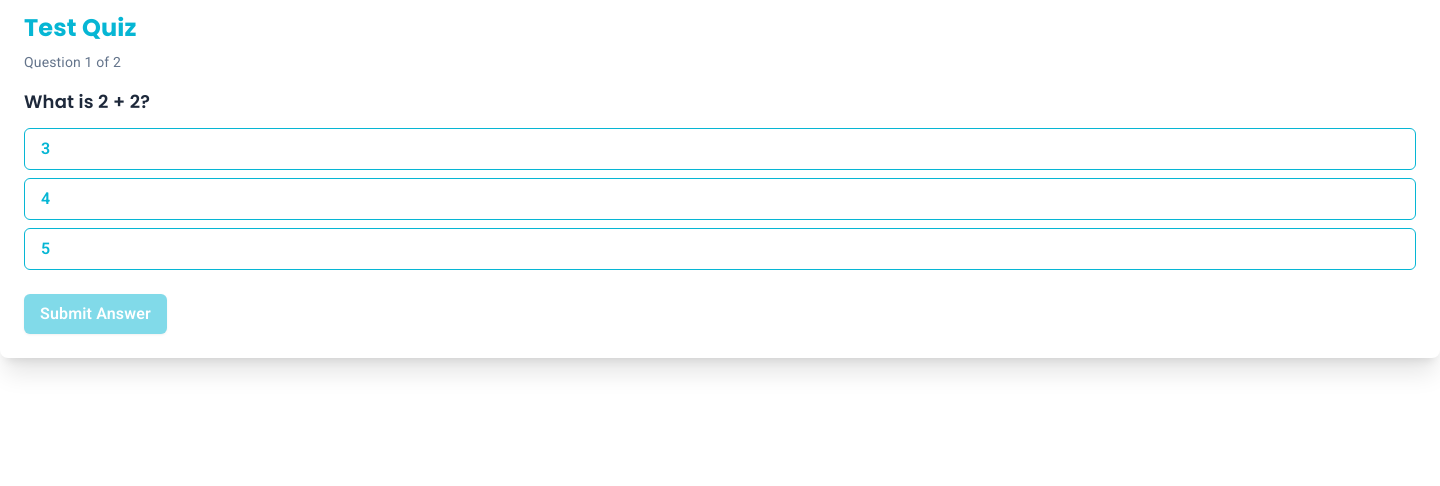
QuizView › navigates to the next question
The width and height of the screenshot is (1440, 486).
Click the button "3". click: (46, 148)
box: x1=24 y1=128 x2=1416 y2=170
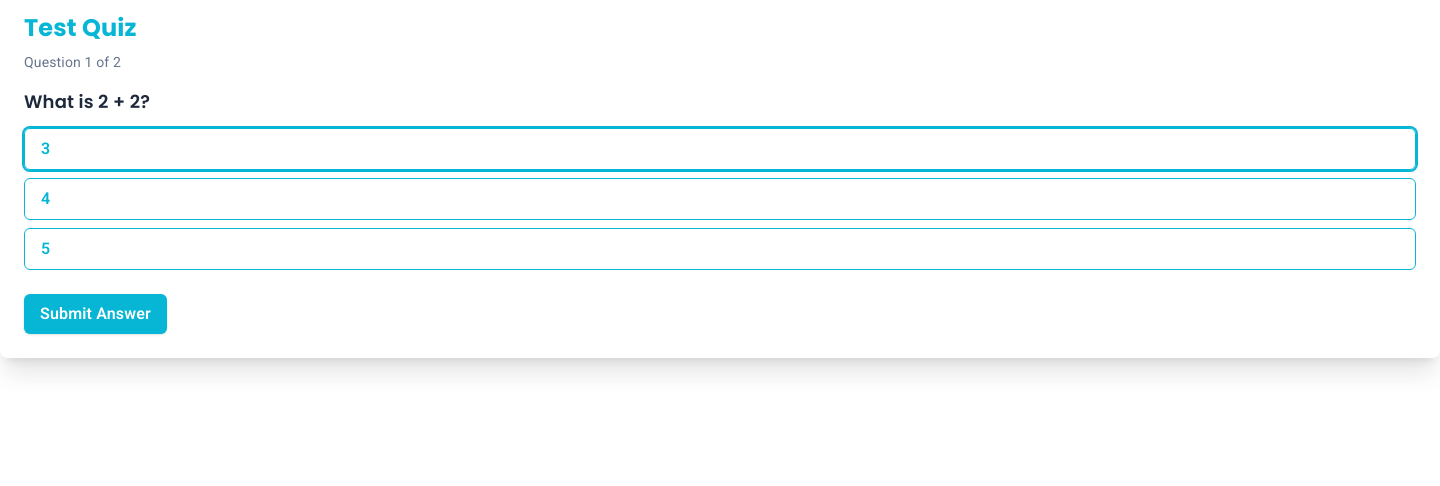
Click the button "Submit Answer". click: (95, 314)
box: x1=24 y1=294 x2=167 y2=334
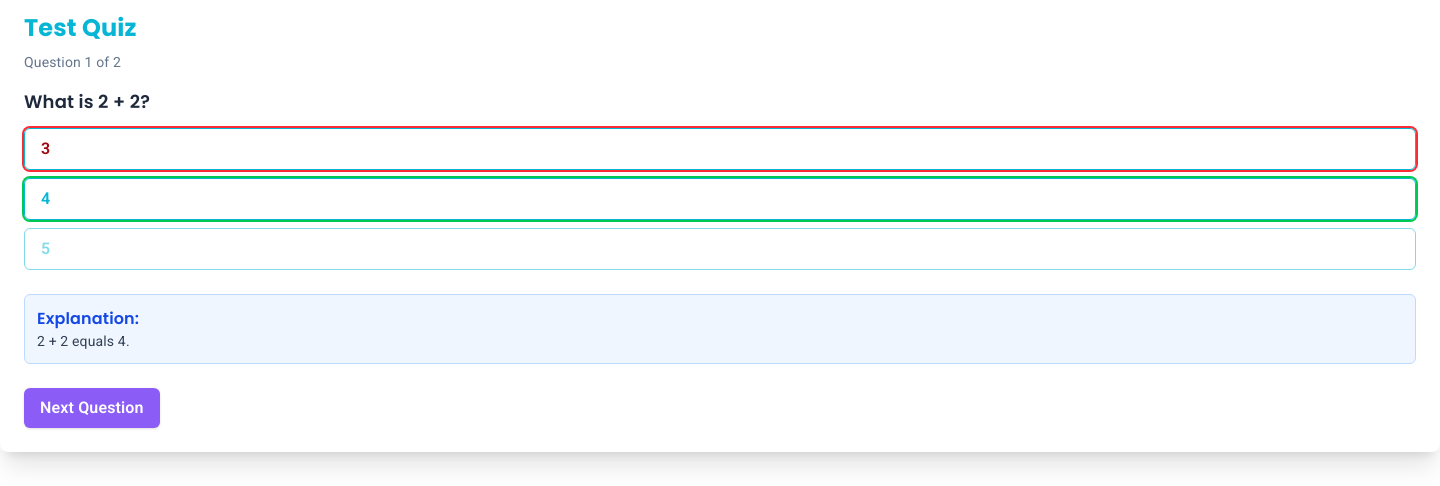
Click the button "Next Question". click: (92, 408)
box: x1=24 y1=388 x2=160 y2=428
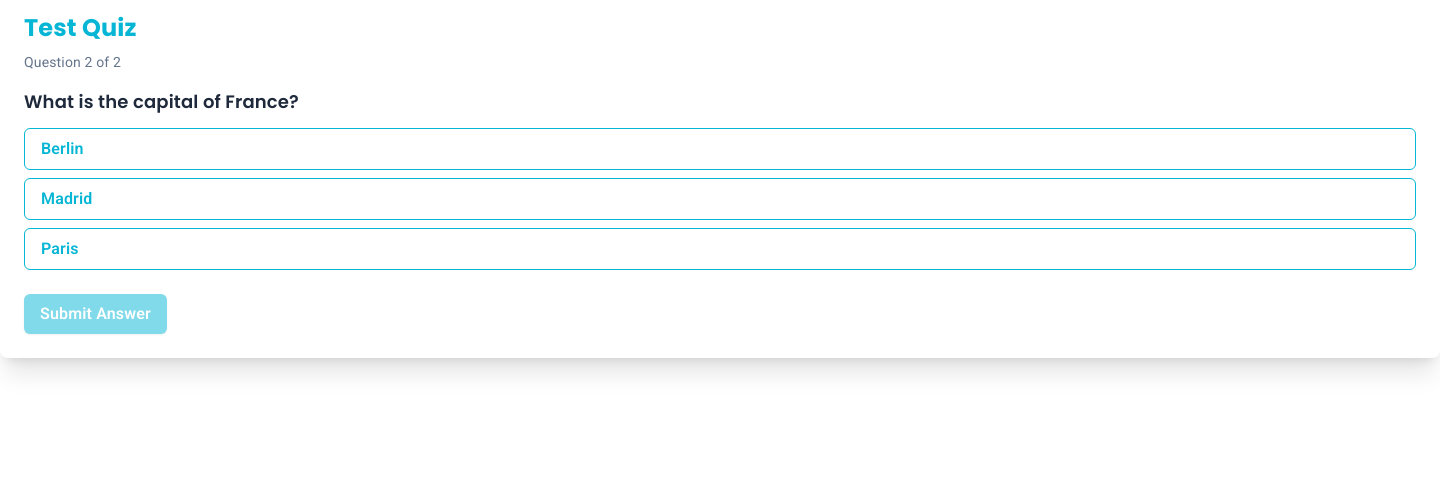
Check: the heading "What is the capital of France?" is shown, box x1=24 y1=89 x2=299 y2=114
